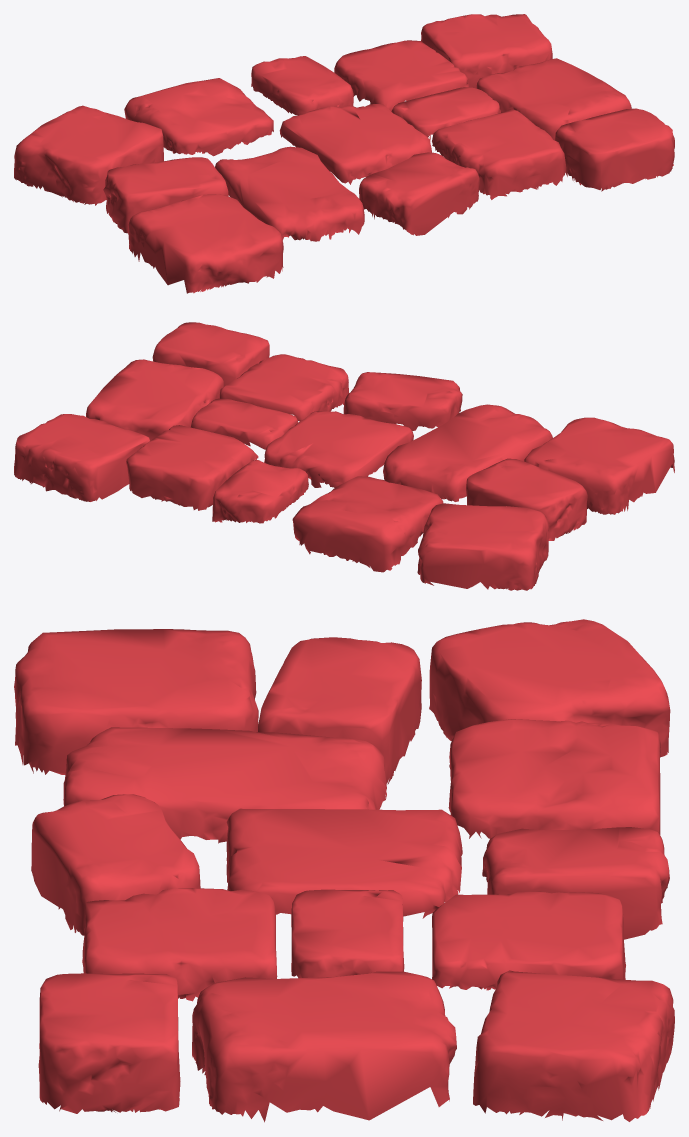
File: SM_Ground_D.fbx
3 renders of one model, top to bottom at view 1: azimuth 30°, elevation 25°; view 2: azimuth 150°, elevation 25°; view 3: azimuth 270°, elevation 25°, orthographic. The views are drawn at different scales.
Visible parts, largest first — view 1: SM_Ground_LOD0; view 2: SM_Ground_LOD0; view 3: SM_Ground_LOD0.
Part boxes in pixels (<box>): SM_Ground_LOD0: <box>14,14,674,293</box>; SM_Ground_LOD0: <box>14,322,674,590</box>; SM_Ground_LOD0: <box>14,619,674,1122</box>.
Size of what is drawn, in the model's own units: 391 by 34.59 by 246.
